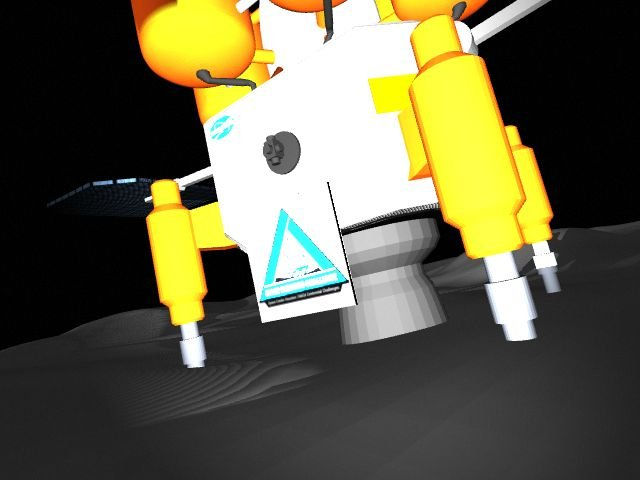basemarker: (260, 208, 350, 308)
